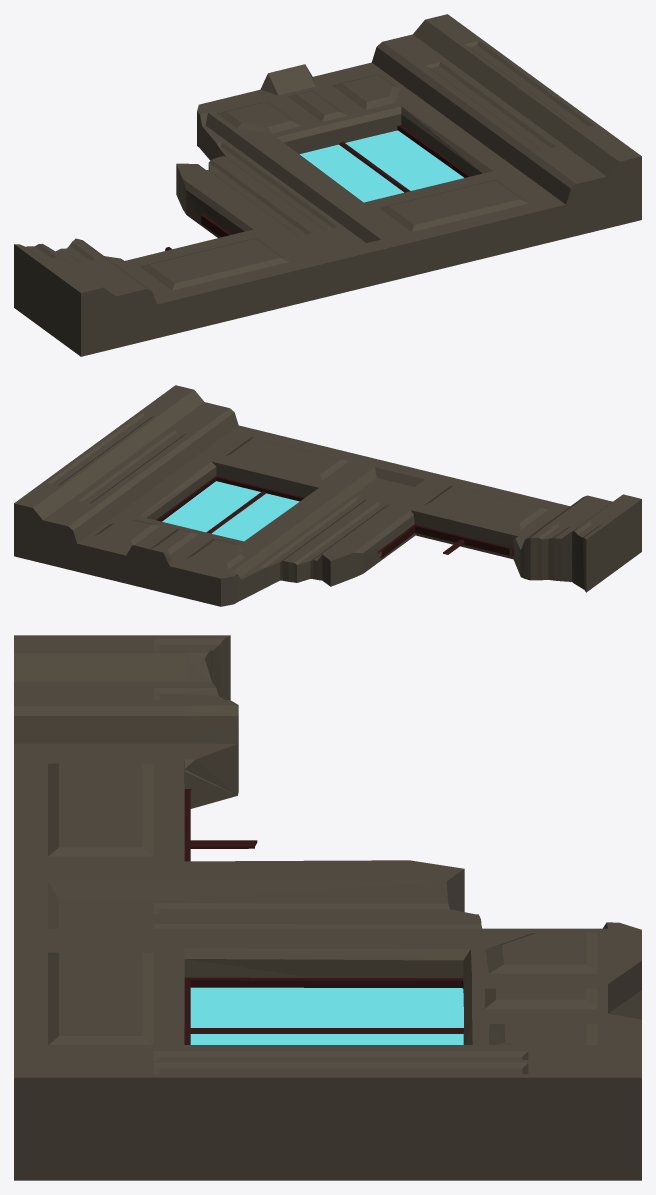
The model's file is FBX_DoubleWCadreSimpleDestroyed.fbx.
3 views of the same model, one above another, from view 1: azimuth 30°, elevation 25°; view 2: azimuth 150°, elevation 25°; view 3: azimuth 270°, elevation 25° (orthographic). The views are drawn at different scales.
Parts seen in each view (by area): view 1: P_F_DoubleWCadreSimple; view 2: P_F_DoubleWCadreSimple; view 3: P_F_DoubleWCadreSimple.
Part boxes in pixels (<box>): P_F_DoubleWCadreSimple: <box>14,14,641,356</box>; P_F_DoubleWCadreSimple: <box>14,385,641,606</box>; P_F_DoubleWCadreSimple: <box>14,635,641,1180</box>.
Bounding box in the file's own units: 650 × 70.51 × 390.
